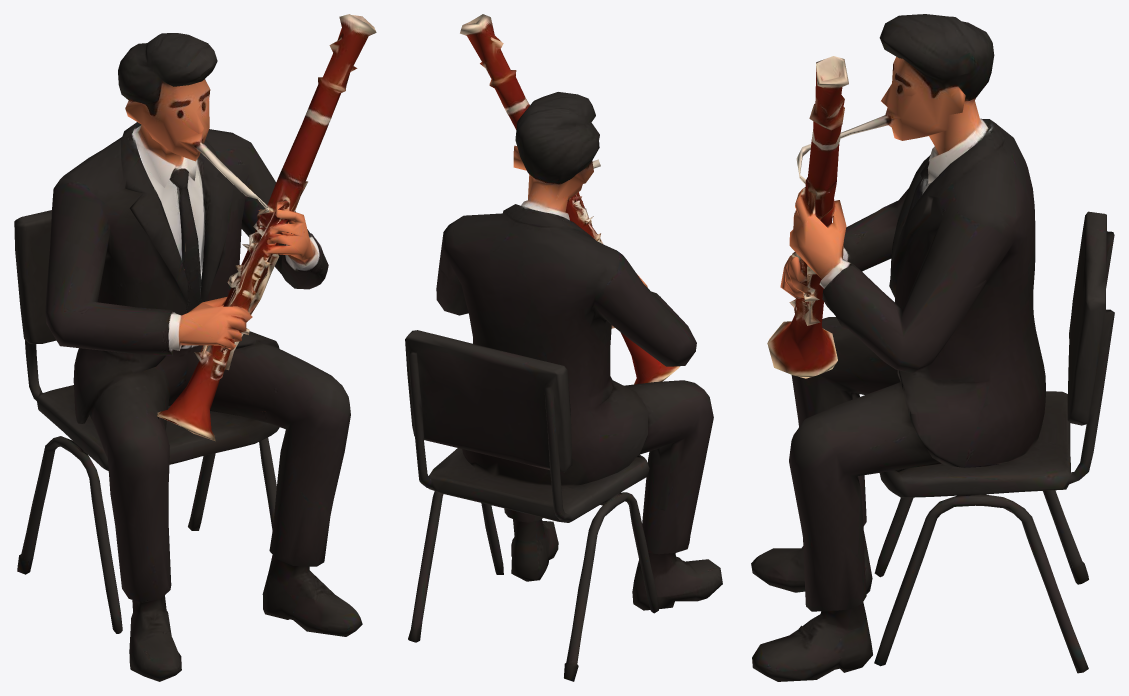
The model's file is bassoonist.glb.
The picture shows the model from 3 angles, left to right: view 1: azimuth 30°, elevation 25°; view 2: azimuth 150°, elevation 25°; view 3: azimuth 270°, elevation 25°; orthographic projection. The views are drawn at different scales.
Parts seen in each view (by area): view 1: tripo_node_a09014ae-3c1a-4060-a81a-6a3090dab5e7; view 2: tripo_node_a09014ae-3c1a-4060-a81a-6a3090dab5e7; view 3: tripo_node_a09014ae-3c1a-4060-a81a-6a3090dab5e7.
Part boxes in pixels (x1,y1,x2,y2): tripo_node_a09014ae-3c1a-4060-a81a-6a3090dab5e7: [14, 14, 376, 681]; tripo_node_a09014ae-3c1a-4060-a81a-6a3090dab5e7: [405, 14, 722, 681]; tripo_node_a09014ae-3c1a-4060-a81a-6a3090dab5e7: [751, 14, 1114, 681].
Size of the model in its own units: 0.6566 by 1.3 by 0.6721.
1 material, 1 textured.
